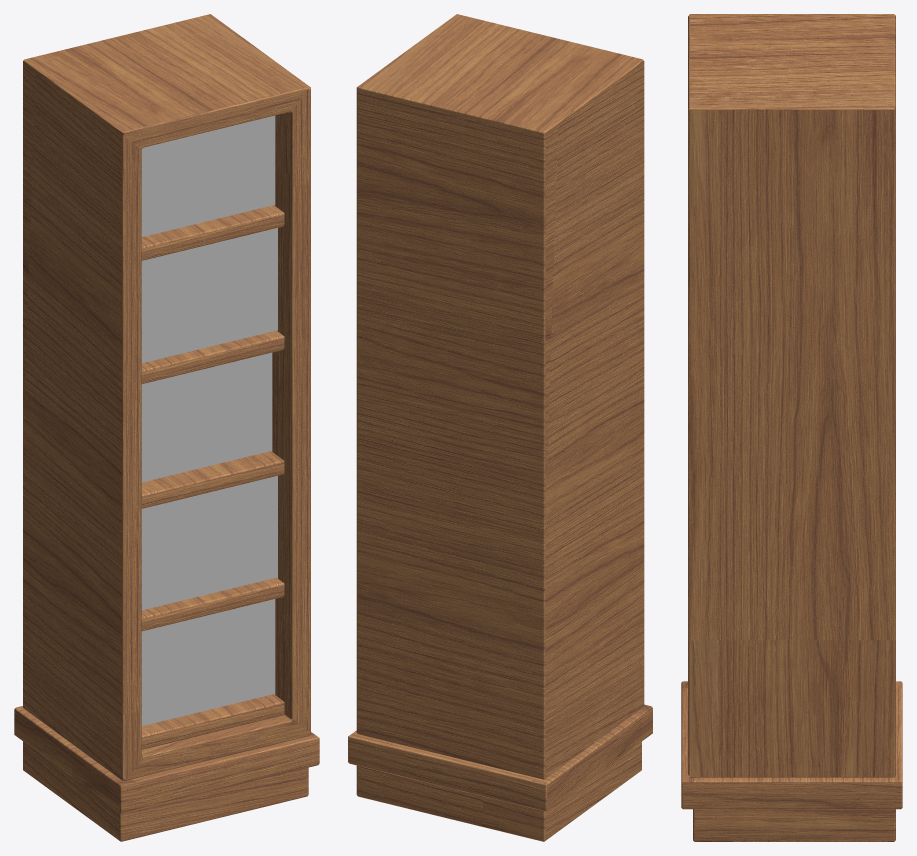
File: SM_bookshelf_02.fbx
3 views of the same model, side by side, from view 1: azimuth 30°, elevation 25°; view 2: azimuth 150°, elevation 25°; view 3: azimuth 270°, elevation 25° (orthographic). The views are drawn at different scales.
Visible parts, largest first — view 1: bookshelf002; view 2: bookshelf002; view 3: bookshelf002.
Part boxes in pixels (box(x1,y1,x2,y2)): bookshelf002: box(14, 14, 319, 841); bookshelf002: box(348, 14, 652, 841); bookshelf002: box(681, 14, 902, 841).
Bounding box in the file's own units: 26.36 × 89.72 × 24.55.
